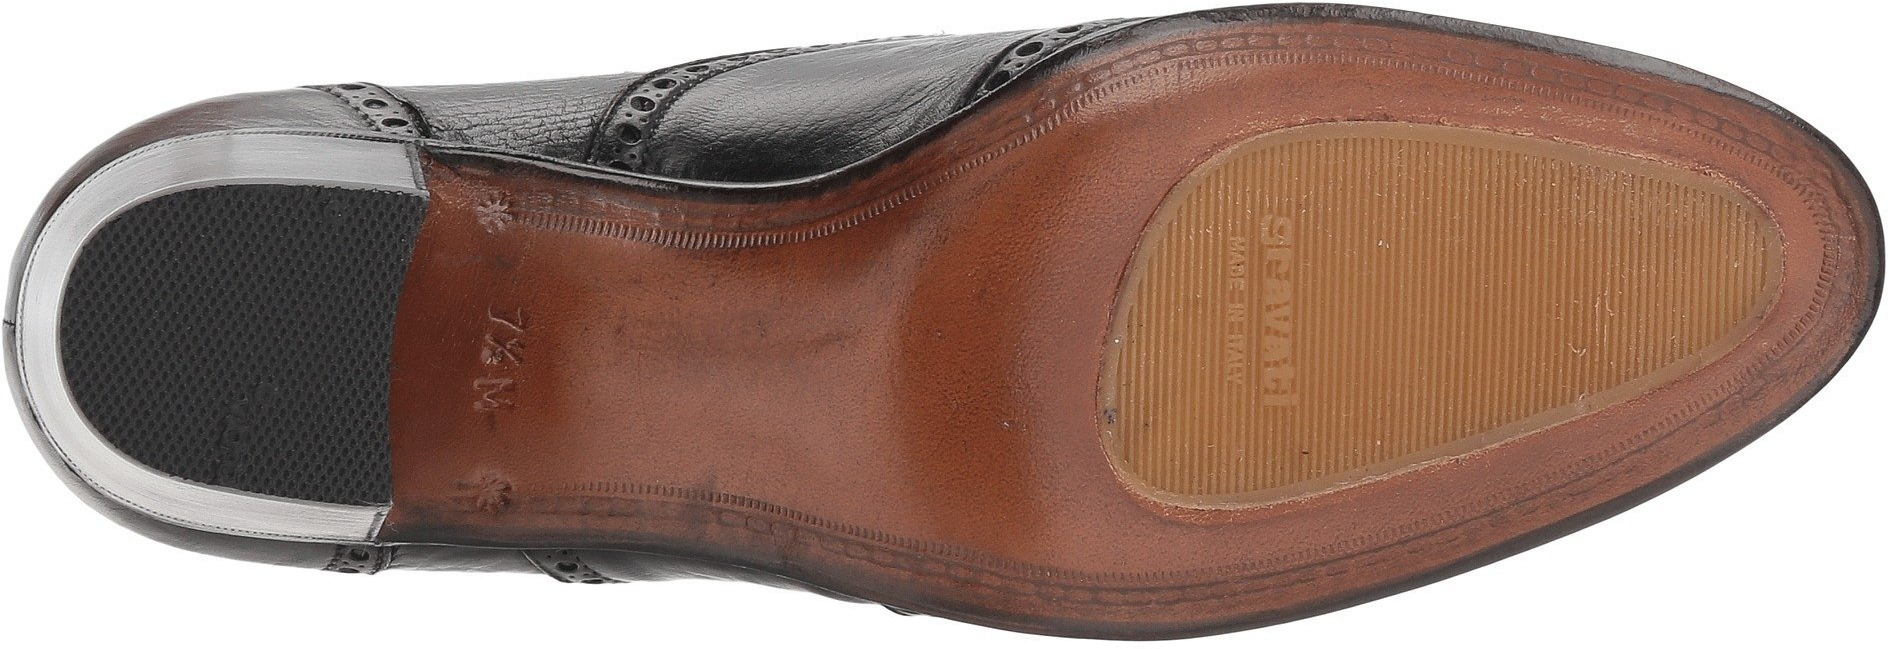other: (59, 183, 430, 501)
text: (1207, 202, 1295, 408), (451, 306, 555, 426)
